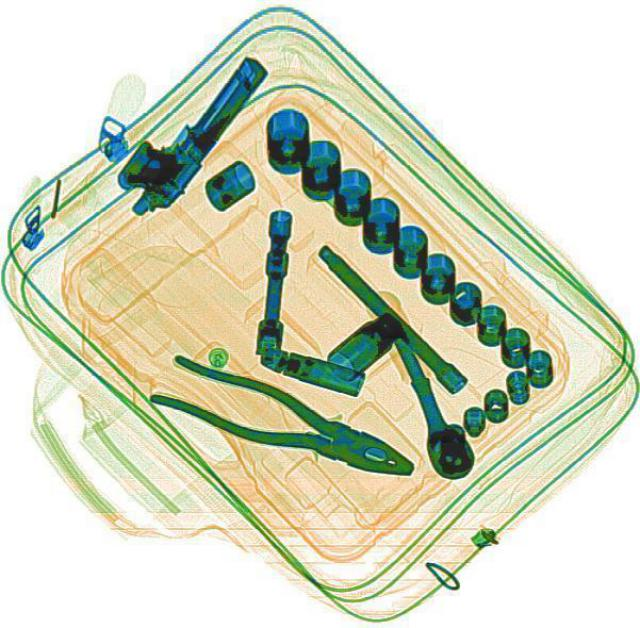Gun: (96, 37, 278, 226)
Pliers: (144, 343, 424, 494)
